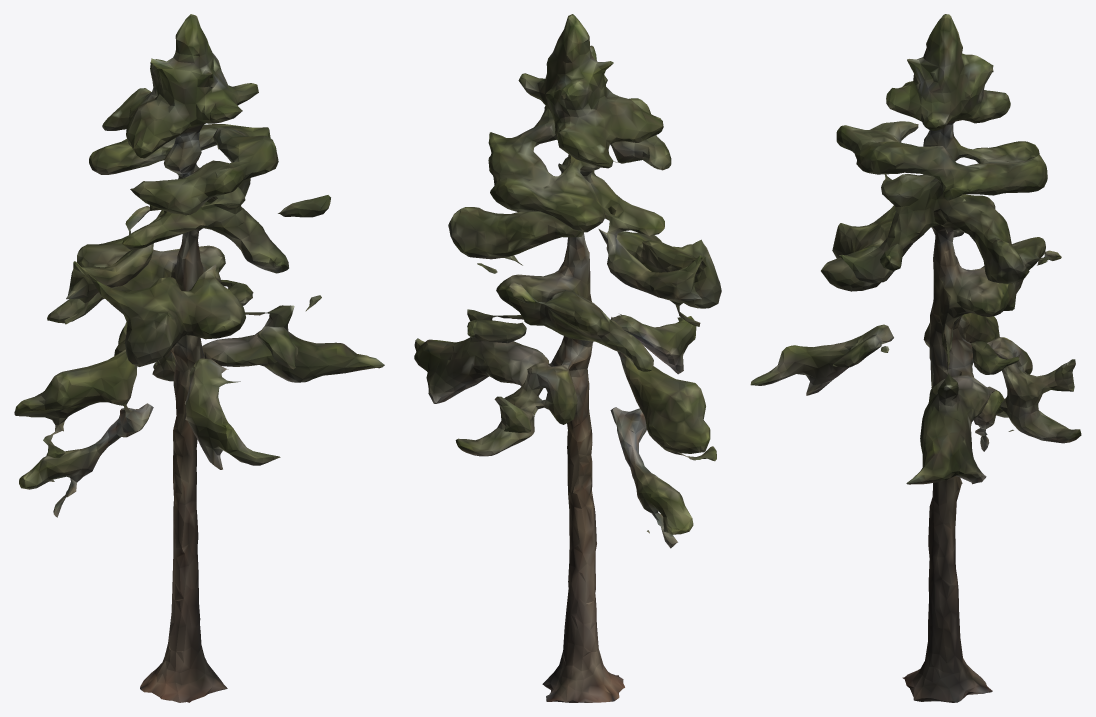
The model's file is Pine_Mature_A.obj.
3 views of the same model, side by side, from view 1: azimuth 30°, elevation 25°; view 2: azimuth 150°, elevation 25°; view 3: azimuth 270°, elevation 25° (orthographic).
Bounding box in the file's own units: 1.02 × 1.98 × 0.8715.
